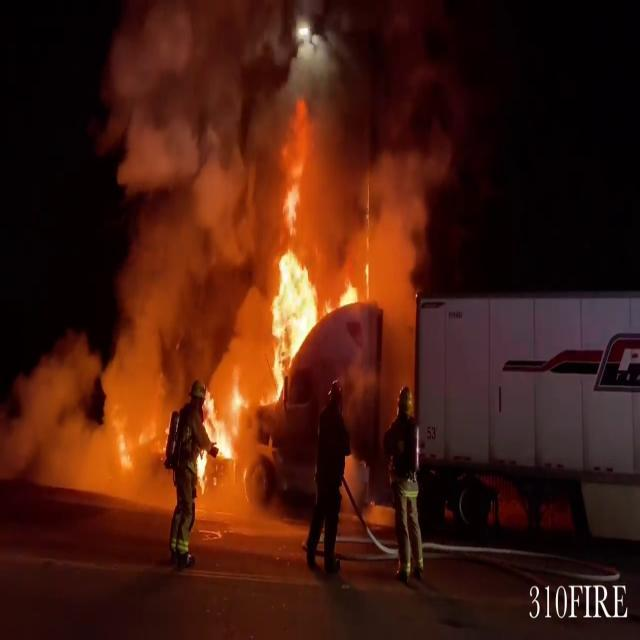Fire: (266, 90, 324, 397), (198, 362, 254, 477)
Smoke: (83, 0, 274, 351), (301, 0, 480, 302), (11, 304, 170, 504)
